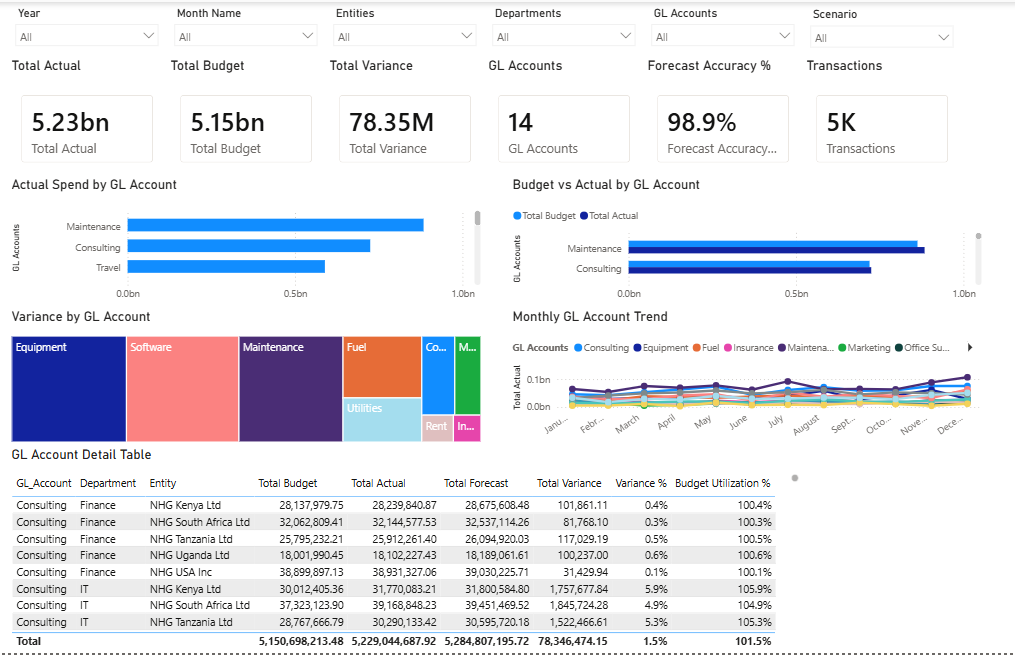

The dashboard page shown, as its layout file describes it:
{"tool":"powerbi","page":{"name":"GL Account Analysis","canvas":[1280,820],"ordinal":3},"visuals":[{"type":"slicer","fields":{"Values":["Calendar.Year"]},"box":[9.4,0,200,85],"z":0},{"type":"slicer","fields":{"Values":["Calendar.Month Name"]},"box":[209.8,0,200,85],"z":1},{"type":"slicer","fields":{"Values":["GL Accounts.Column1"]},"box":[810.7,0,200,85],"z":2},{"type":"slicer","fields":{"Values":["Entities.Column1"]},"box":[410.1,0,200,85],"z":3},{"type":"slicer","fields":{"Values":["Financials.Scenario"]},"box":[1011,1.9,200,85],"z":4},{"type":"slicer","fields":{"Values":["Departments.Column1"]},"box":[610.4,0,200,85],"z":5},{"type":"cardVisual","title":"Total Actual","fields":{"Data":["Measure.Total Actual"]},"box":[9.4,69.9,200,150],"z":6},{"type":"cardVisual","title":"Forecast Accuracy %","fields":{"Data":["Measure.Forecast Accuracy %"]},"box":[810.7,69.9,200,150],"z":7},{"type":"cardVisual","title":"Transactions","fields":{"Data":["Measure.Transactions"]},"box":[1011,69.9,200,150],"z":8},{"type":"cardVisual","title":"Total Budget","fields":{"Data":["Measure.Total Budget"]},"box":[209.8,69.9,200,150],"z":9},{"type":"cardVisual","title":"Total Variance","fields":{"Data":["Measure.Total Variance"]},"box":[410.1,69.9,200,150],"z":10},{"type":"cardVisual","title":"GL Accounts","fields":{"Data":["Measure.GL Accounts"]},"box":[610.4,69.9,200,150],"z":11},{"type":"clusteredBarChart","title":"Actual Spend by GL Account","fields":{"Category":["Dim_GL Accounts.GL Accounts"],"Y":["Measure.Total Actual"]},"box":[9.4,219.2,600.9,166.3],"z":12},{"type":"clusteredBarChart","title":"Budget vs Actual by GL Account","fields":{"Category":["Dim_GL Accounts.GL Accounts"],"Y":["Measure.Total Budget","Measure.Total Actual"]},"box":[640.6,219.2,600.9,166.3],"z":13},{"type":"treemap","title":"Variance by GL Account","fields":{"Group":["Dim_GL Accounts.GL Accounts"],"Values":["Measure.Total Variance"]},"box":[9.4,385.5,600.9,173.9],"z":14},{"type":"lineChart","title":"Monthly GL Account Trend","fields":{"Category":["Dim_Calendar.Month Name"],"Series":["Dim_GL Accounts.GL Accounts"],"Y":["Measure.Total Actual"]},"box":[640.6,385.5,600.9,173.9],"z":15},{"type":"tableEx","title":"GL Account Detail Table","fields":{"Values":["Fact_Financials.GL_Account","Fact_Financials.Department","Fact_Financials.Entity","Measure.Total Budget","Measure.Total Actual","Measure.Total Forecast","Measure.Total Variance","Measure.Variance %","Measure.Budget Utilization %"]},"box":[9.4,559.4,1001.6,260.8],"z":16}]}

Visuals, with their boxes in screenshot pixels (x1, y1, x2, y2), scaled from the page's 1280x820 canvas onto the 1015x655 screenshot:
slicer - Calendar.Year: bbox=(7, 0, 166, 68)
slicer - Calendar.Month Name: bbox=(166, 0, 325, 68)
slicer - GL Accounts.Column1: bbox=(643, 0, 801, 68)
slicer - Entities.Column1: bbox=(325, 0, 484, 68)
slicer - Financials.Scenario: bbox=(802, 2, 960, 69)
slicer - Departments.Column1: bbox=(484, 0, 643, 68)
"Total Actual" cardVisual: bbox=(7, 56, 166, 176)
"Forecast Accuracy %" cardVisual: bbox=(643, 56, 801, 176)
"Transactions" cardVisual: bbox=(802, 56, 960, 176)
"Total Budget" cardVisual: bbox=(166, 56, 325, 176)
"Total Variance" cardVisual: bbox=(325, 56, 484, 176)
"GL Accounts" cardVisual: bbox=(484, 56, 643, 176)
"Actual Spend by GL Account" clusteredBarChart: bbox=(7, 175, 484, 308)
"Budget vs Actual by GL Account" clusteredBarChart: bbox=(508, 175, 984, 308)
"Variance by GL Account" treemap: bbox=(7, 308, 484, 447)
"Monthly GL Account Trend" lineChart: bbox=(508, 308, 984, 447)
"GL Account Detail Table" tableEx: bbox=(7, 447, 802, 654)
